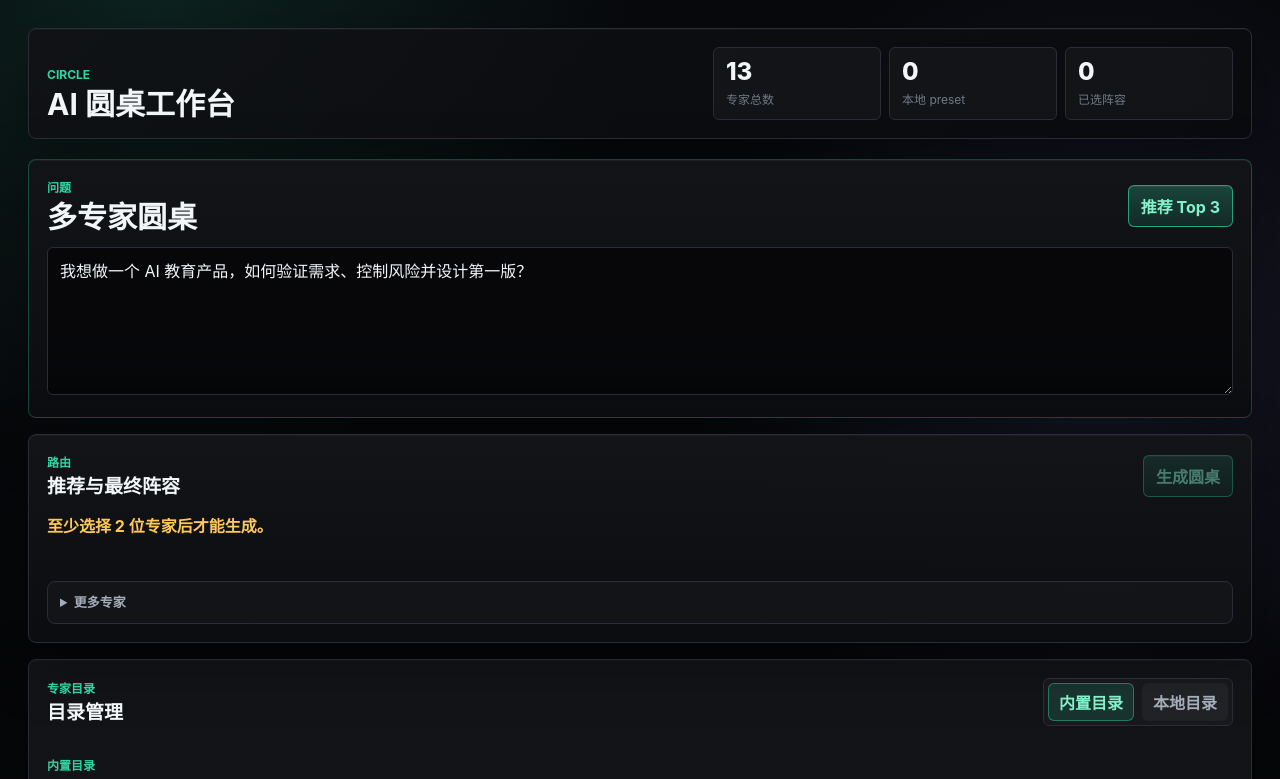
Test: routing flow › switches the expert catalog between built-in and local tabs
Expected: the tab "内置目录" is shown, [1048, 683, 1134, 721]
Expected: the button "导出 JSON" is not shown
Click the tab "本地目录": point(1185, 702) [1142, 683, 1228, 721]
(page scrolled)
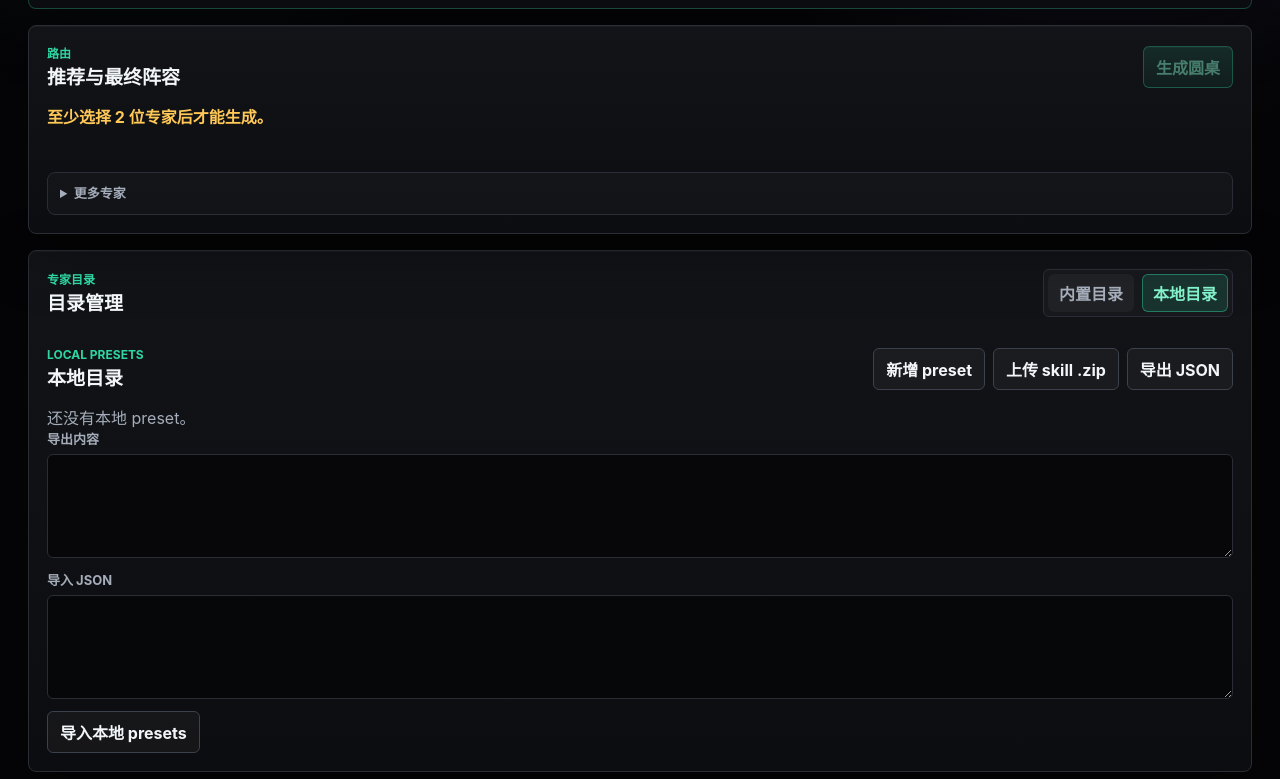
Expected: the button "新增 preset" is shown, [873, 348, 985, 390]
Expected: the button "导出 JSON" is shown, [1127, 348, 1233, 390]
Expected: the text box labelled "导入 JSON" is shown, [47, 595, 1233, 699]
